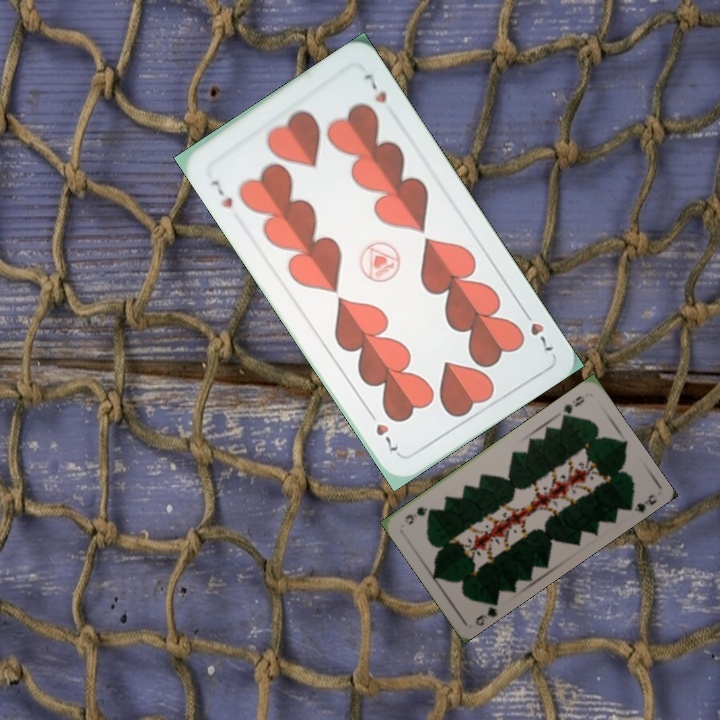G9: (471, 595, 501, 628), (557, 391, 587, 423)
H7: (517, 304, 556, 355), (207, 175, 236, 211)
